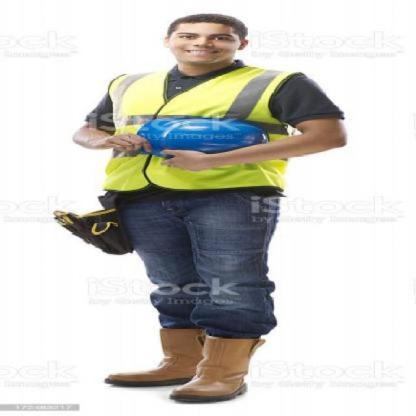bota: (164, 332, 266, 404), (103, 326, 207, 388)
